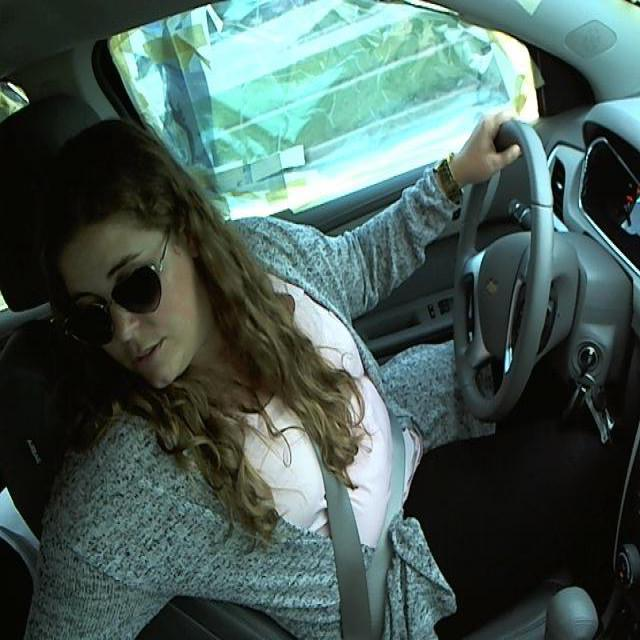seatbelt: (243, 308, 423, 636)
